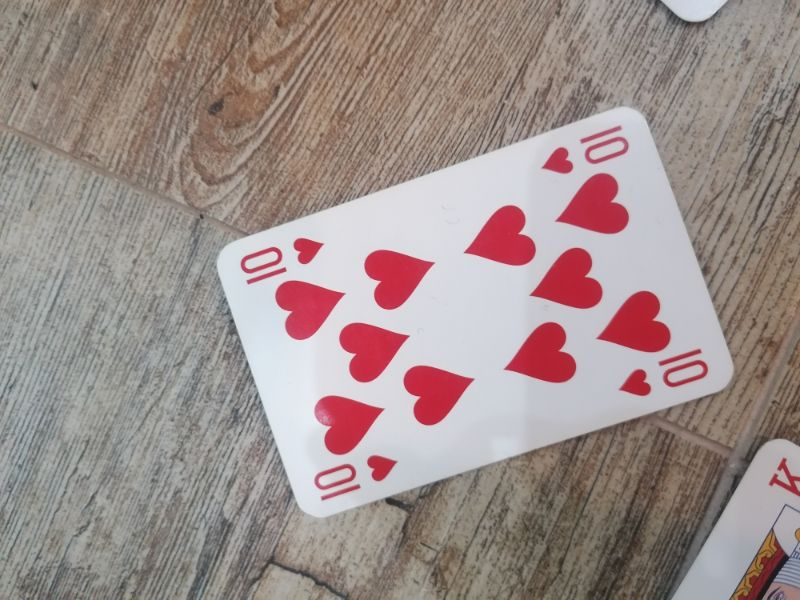Th: (616, 343, 712, 406), (240, 229, 329, 289), (311, 448, 403, 504), (540, 122, 632, 177)
